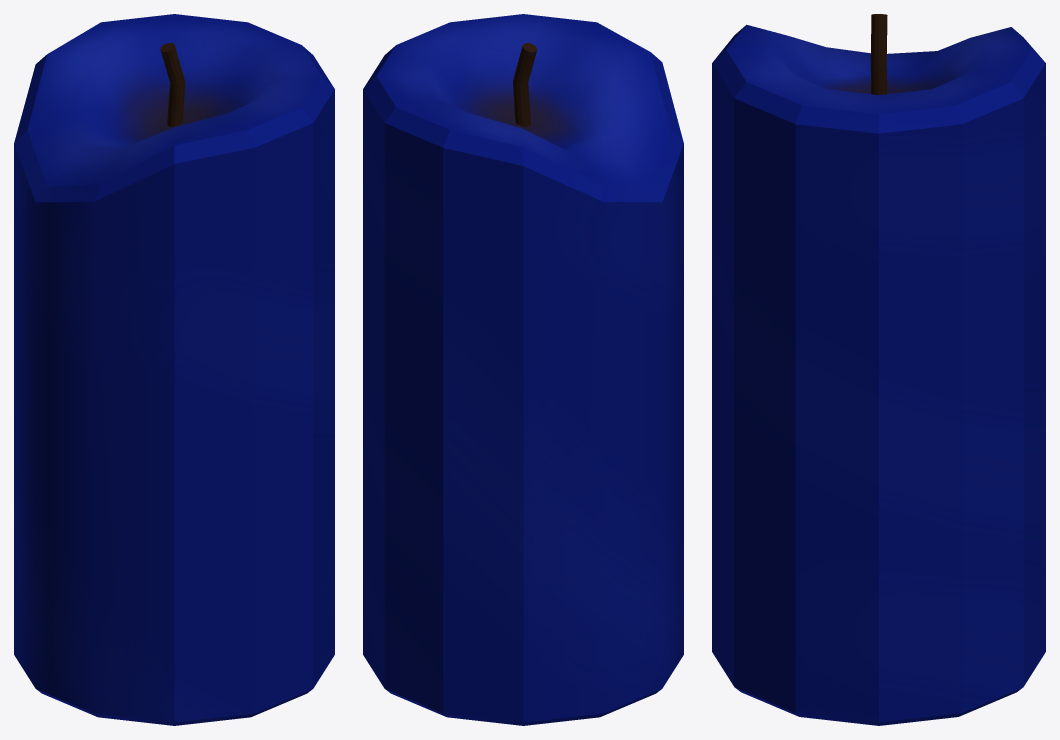
Rendered from candle1.fbx.
The picture shows the model from 3 angles, left to right: view 1: azimuth 30°, elevation 25°; view 2: azimuth 150°, elevation 25°; view 3: azimuth 270°, elevation 25°; orthographic projection. The views are drawn at different scales.
Parts seen in each view (by area): view 1: Candle1; view 2: Candle1; view 3: Candle1.
Boxes of the visible parts, left/top/right/bottom form: Candle1: left=14, top=14, right=334, bottom=725; Candle1: left=363, top=14, right=683, bottom=725; Candle1: left=712, top=14, right=1045, bottom=725.
Size of the model in its own units: 2 by 4.25 by 2.
